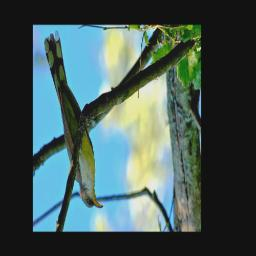Cuckoo: (44, 32, 103, 209)
